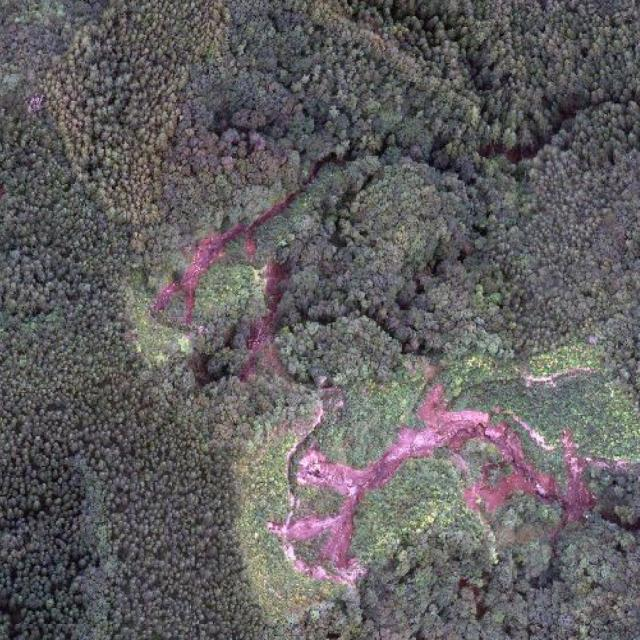landslide: (269, 384, 571, 584), (152, 152, 337, 326), (241, 259, 290, 380)
